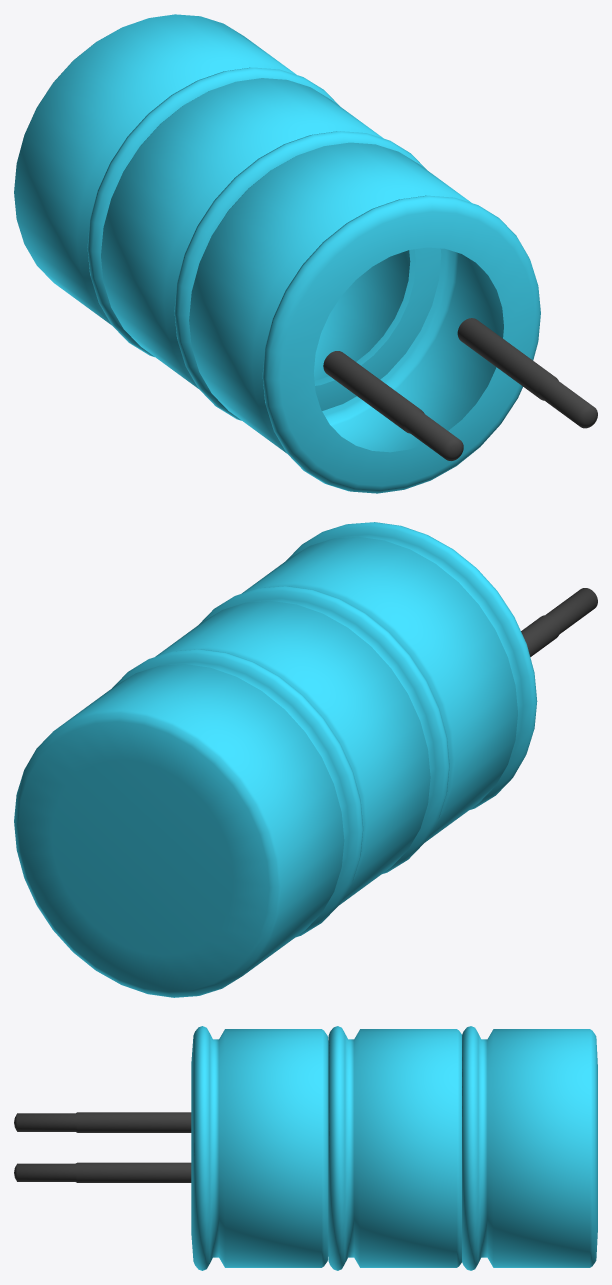
Rendered from Capacitor-Upgrade2.fbx.
3 views of the same model, one above another, from view 1: azimuth 30°, elevation 25°; view 2: azimuth 150°, elevation 25°; view 3: azimuth 270°, elevation 25° (orthographic). The views are drawn at different scales.
Visible parts, largest first — view 1: Capacitor3; view 2: Capacitor3; view 3: Capacitor3.
Boxes of the visible parts, x1=… form: Capacitor3: x1=14, y1=14, x2=597, y2=493; Capacitor3: x1=14, y1=522, x2=597, y2=997; Capacitor3: x1=14, y1=1026, x2=597, y2=1270.
Size of the model in its own units: 116 by 116 by 276.
